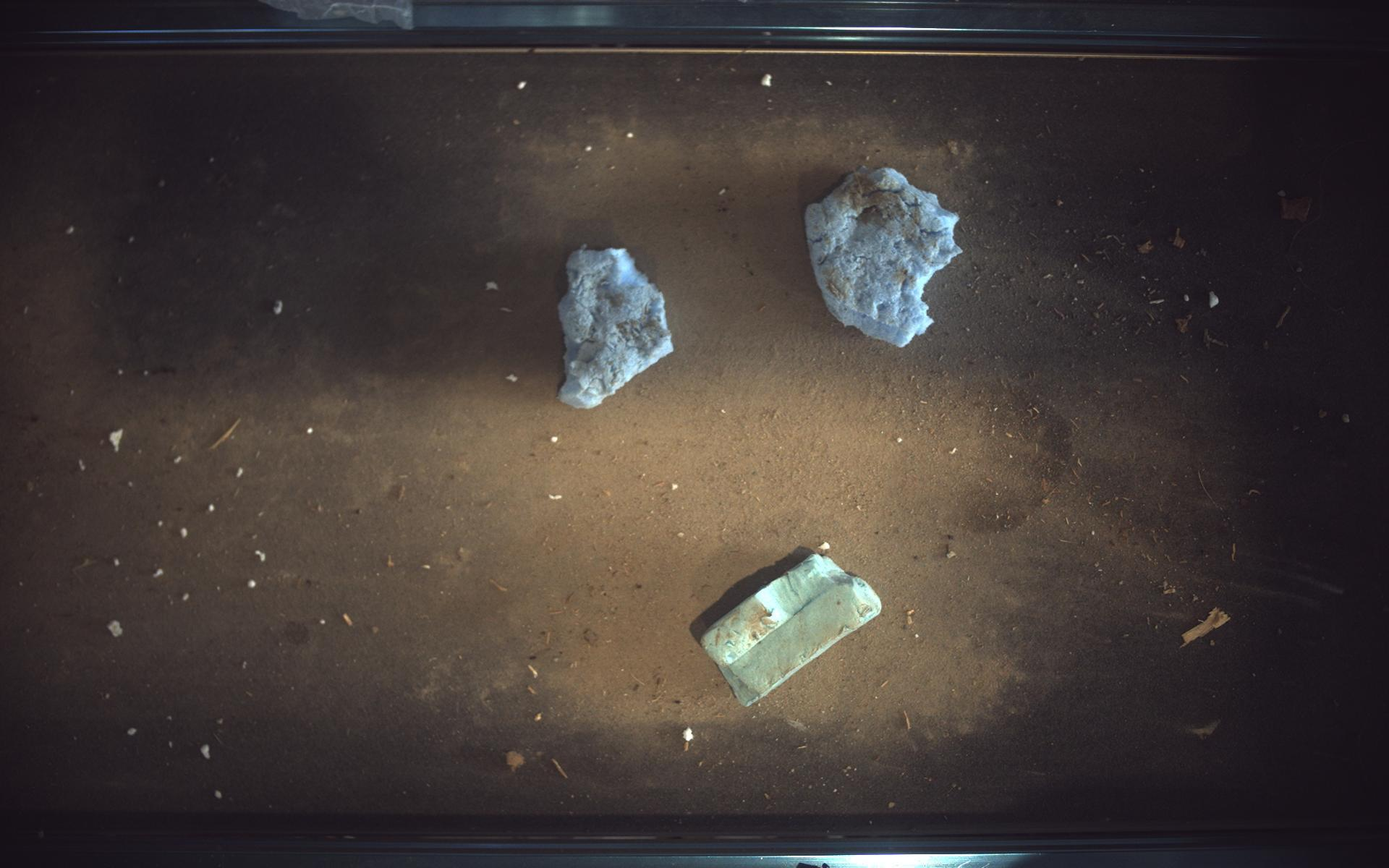foam: (807, 166, 963, 346), (702, 554, 883, 707), (558, 244, 674, 409)
